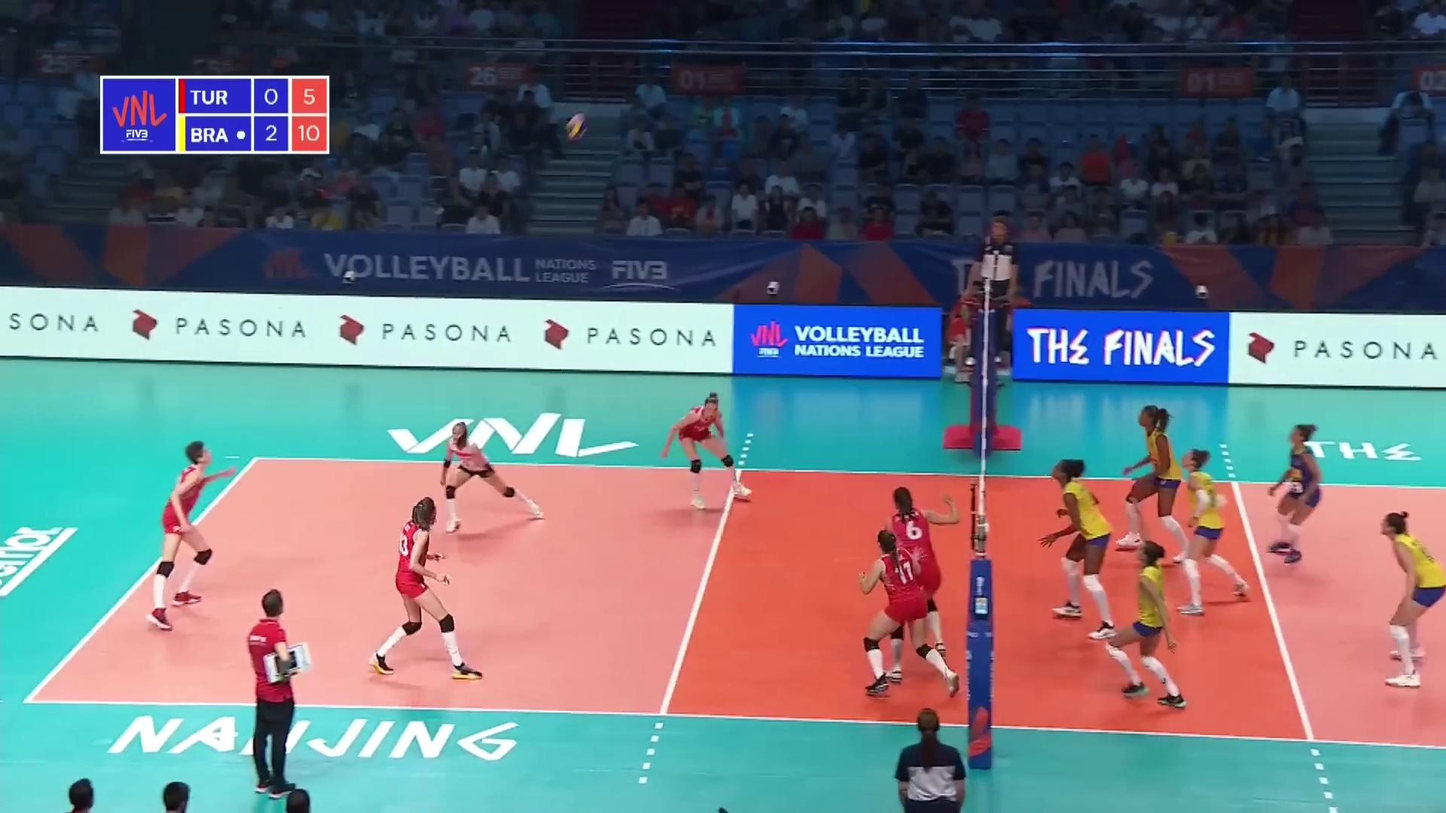player: (376, 497, 482, 679), (860, 532, 959, 696), (153, 440, 237, 626), (885, 486, 959, 683), (1106, 542, 1190, 710), (1044, 460, 1118, 639), (1378, 509, 1446, 685), (1180, 452, 1252, 614), (1122, 407, 1197, 562), (663, 392, 758, 508), (443, 421, 542, 529), (1267, 422, 1328, 565)
refree: (893, 709, 968, 813), (968, 219, 1019, 363)
